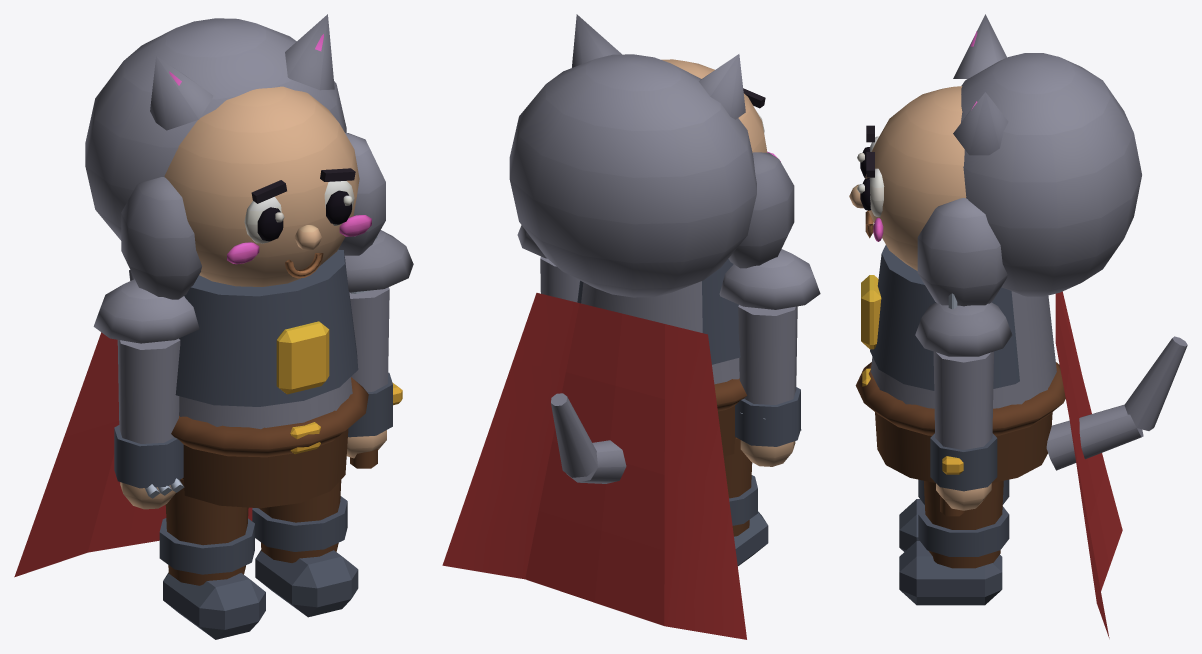
Rendered from hero_fang.glb.
3 views of the same model, side by side, from view 1: azimuth 30°, elevation 25°; view 2: azimuth 150°, elevation 25°; view 3: azimuth 270°, elevation 25° (orthographic). The views are drawn at different scales.
Parts seen in each view (by area): view 1: body_t0_palette, arml_t0_palette, legl_t0_palette, legr_t0_palette, armr_t0_palette; view 2: body_t0_palette, arml_t0_palette, legl_t0_palette, armr_t0_palette; view 3: body_t0_palette, armr_t0_palette, legr_t0_palette, legl_t0_palette.
Boxes of the visible parts, x1,y1,x2,y2 form: body_t0_palette: (14,14,385,577); arml_t0_palette: (93,279,199,509); legl_t0_palette: (159,478,265,639); legr_t0_palette: (252,480,358,617); armr_t0_palette: (344,230,413,468); body_t0_palette: (442,14,794,639); arml_t0_palette: (719,249,820,466); legl_t0_palette: (723,437,768,566); armr_t0_palette: (517,225,579,302); body_t0_palette: (849,14,1187,638); armr_t0_palette: (915,293,1012,516); legr_t0_palette: (899,481,1009,605); legl_t0_palette: (899,479,1009,551).
Bounding box in the file's own units: 0.32 × 0.5344 × 0.3132.
